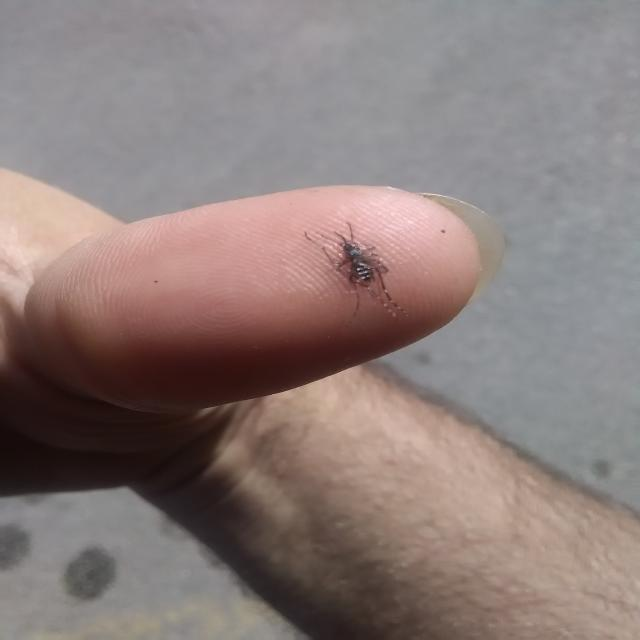albopictus: (299, 215, 412, 322)
